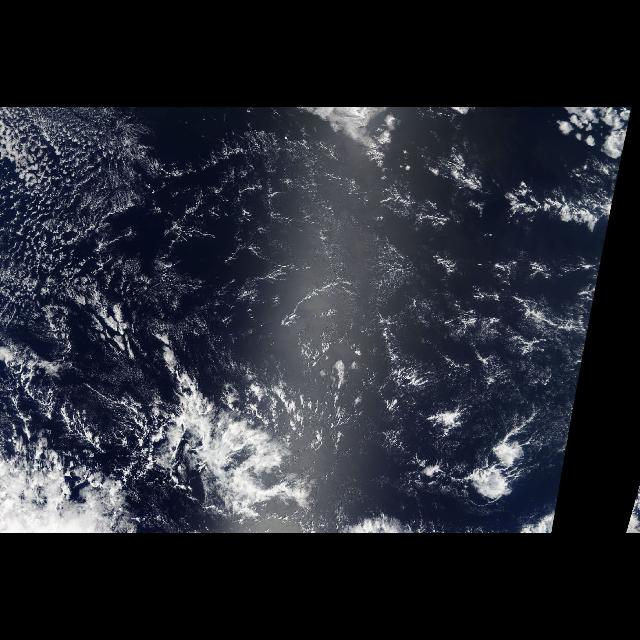Fish: (117, 298, 370, 524)
Gravel: (5, 118, 134, 318)
Sugar: (136, 132, 382, 366), (473, 306, 591, 448)
